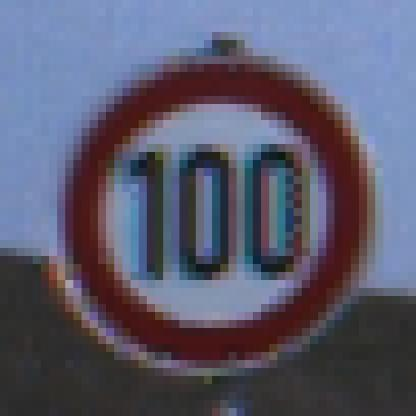Speed Limit 100: (67, 63, 365, 365)
